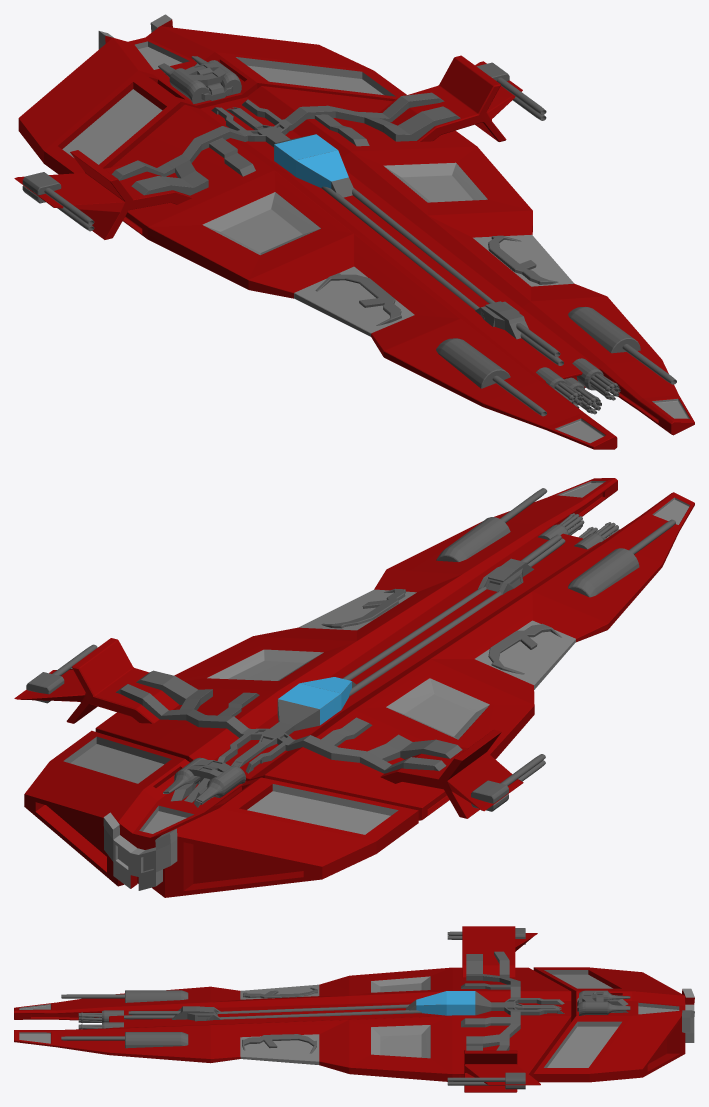
Rendered from Spaceship.fbx.
The picture shows the model from 3 angles, top to bottom: view 1: azimuth 30°, elevation 25°; view 2: azimuth 150°, elevation 25°; view 3: azimuth 270°, elevation 25°; orthographic projection. The views are drawn at different scales.
Parts seen in each view (by area): view 1: pPipe5; view 2: pPipe5; view 3: pPipe5.
Boxes of the visible parts, x1=… form: pPipe5: x1=14, y1=14, x2=694, y2=449; pPipe5: x1=14, y1=478, x2=694, y2=897; pPipe5: x1=14, y1=926, x2=694, y2=1092.
Size of the model in its own units: 10.55 by 1.84 by 19.91.
